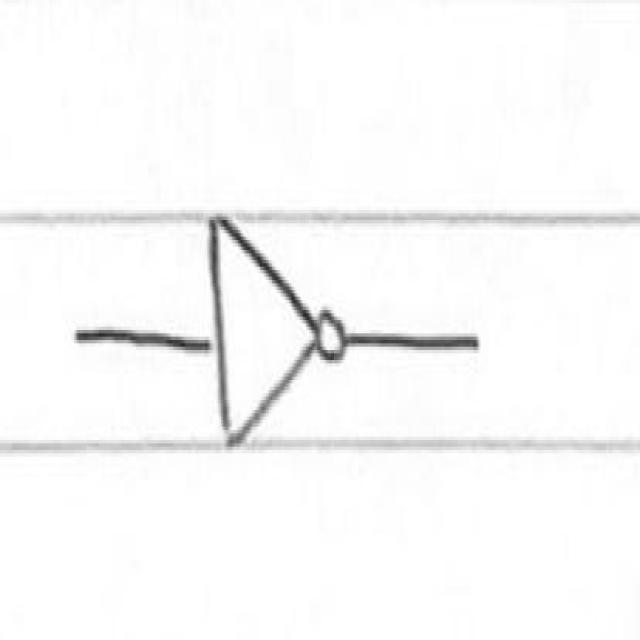NOT: (200, 194, 356, 462)
